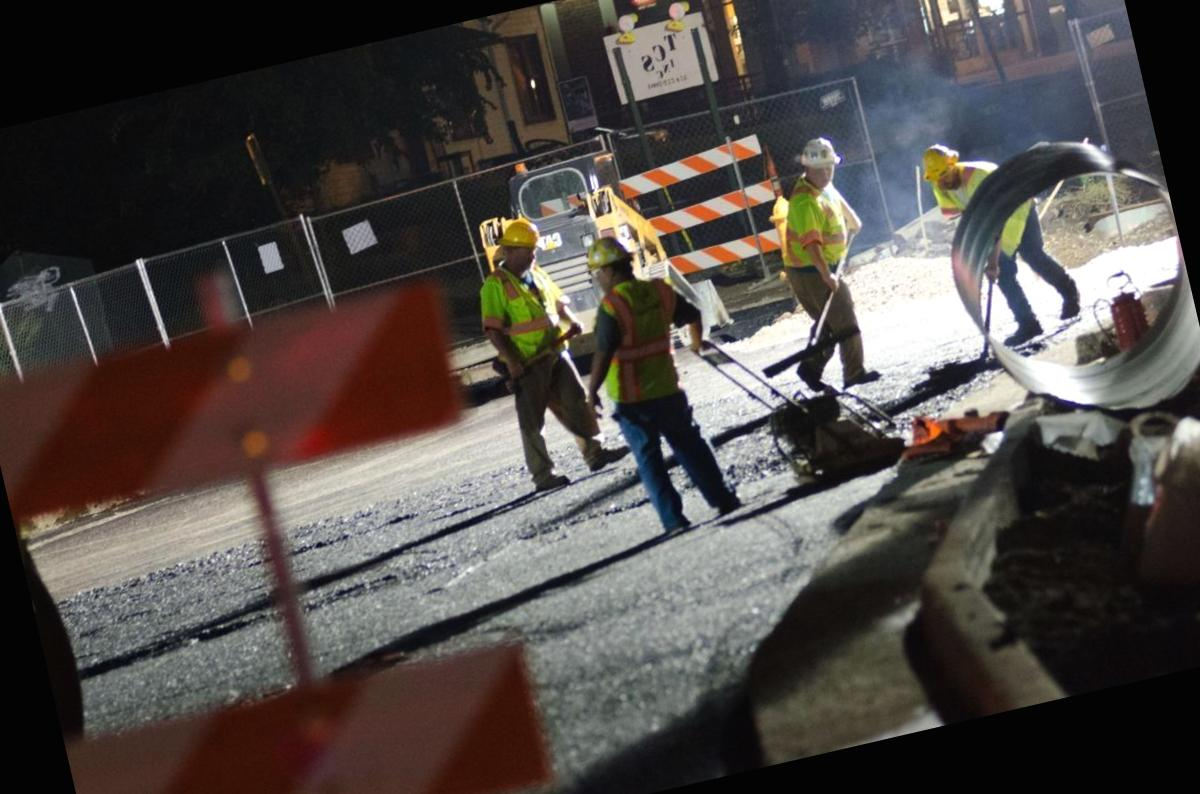helmet: (785, 128, 852, 198), (908, 135, 969, 202), (488, 212, 556, 272)
person: (554, 211, 752, 550), (454, 202, 611, 505), (910, 110, 1084, 373), (730, 122, 893, 396)
